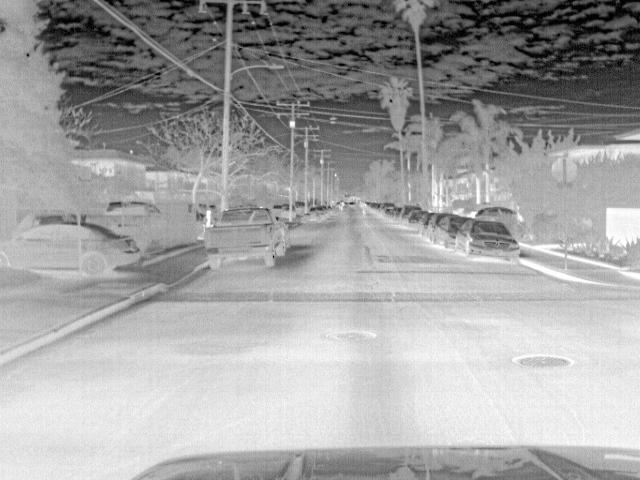car: (8, 221, 140, 277), (206, 205, 292, 275), (82, 200, 165, 250), (455, 218, 525, 266), (431, 218, 471, 248), (474, 204, 520, 226), (428, 214, 455, 242), (397, 206, 423, 227), (304, 205, 331, 223), (411, 211, 433, 230), (380, 200, 401, 214), (384, 208, 401, 220)
person: (203, 206, 216, 241)
